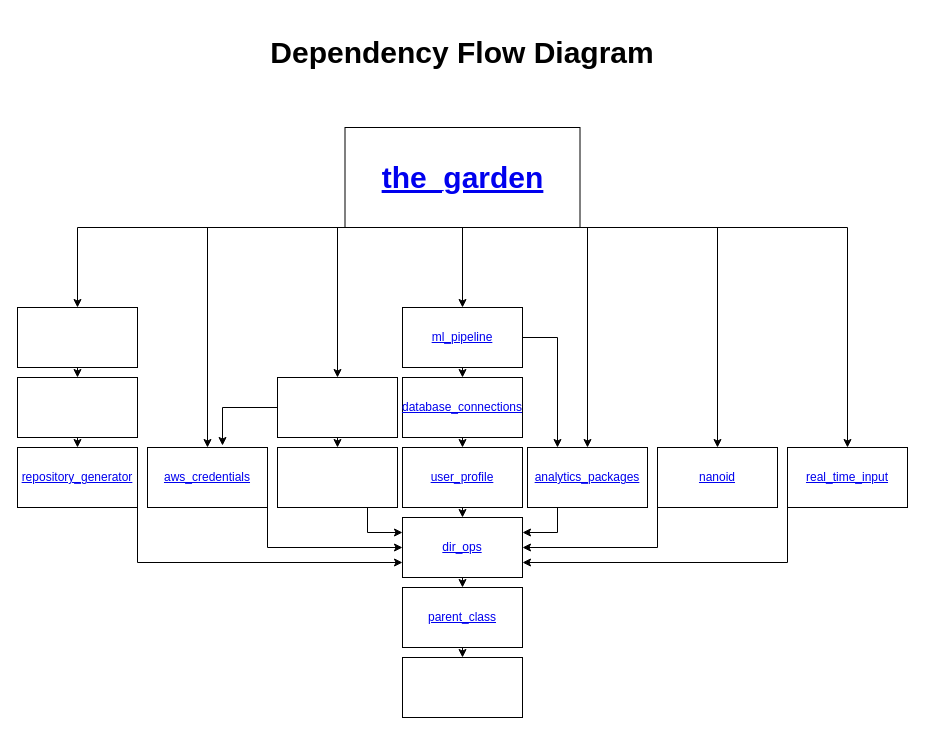
The diagram is 925 pixels wide and 735 high, and some of its shapes have lost their labels. Each missing label, with the centre of its shape:
"aws_connections" belongs at pixel 337 477.
"py_starter" belongs at pixel 462 687.
"pypi_builder" belongs at pixel 77 407.
"s3synchrony" belongs at pixel 337 407.
"smart_documentation" belongs at pixel 77 337.
